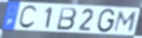1: (44, 6, 53, 30)
2: (77, 8, 95, 32)
B: (55, 6, 78, 32)
C: (17, 5, 39, 30)
G: (96, 8, 117, 34)
M: (113, 10, 139, 33)
